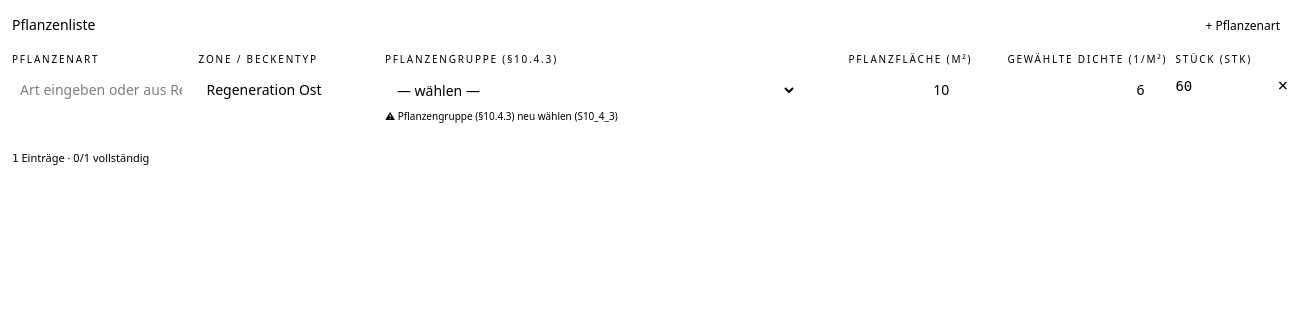
Test: catalog_pick column — picker behaviour inside the RegisterEditor › typing writes the text cell as before and queries the API with the row context; picking writes ONLY the species name and shows a proposal
Step 1. Type "My" into the dropdown named "Pflanzenart" → (101, 90), box [12,76,190,104]
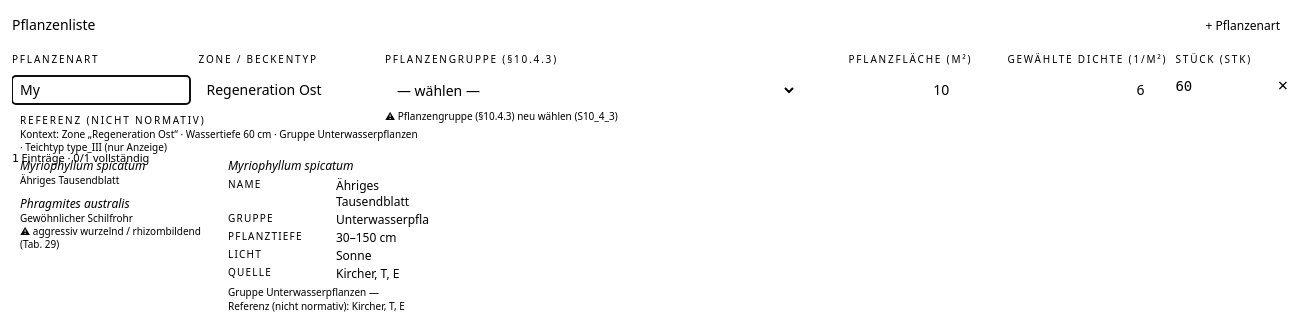
Expected: the text "Referenz (nicht normativ)" is shown, [20,113,206,127]
Expected: the text with test id "catalog-context" shows "Kontext: Zone „Regeneration Ost“ · Wassertiefe 60 cm · Gruppe Unterwasserpflanzen · Teichtyp type_III (nur Anzeige)", [20,127,418,154]
Expected: the number of options with test id "catalog-option" is 2
Step 2. Click the option with test id "catalog-option" that starts with "Myriophyllum spicatum" → (83, 172), box [20,157,146,187]
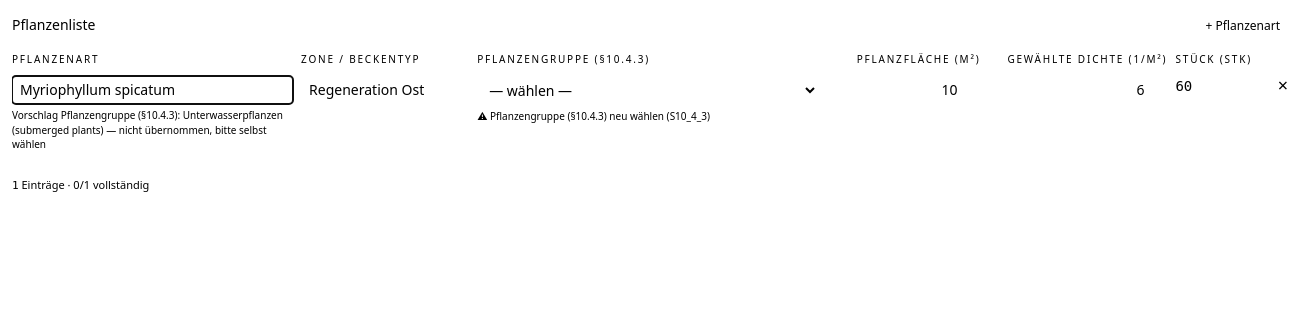
Expected: the text "⚠ Pflanzengruppe (§10.4.3) neu wählen (S10_4_3)" is shown, [477,109,710,123]
Expected: the text with test id "catalog-proposal" shows "Vorschlag Pflanzengruppe (§10.4.3): Unterwasserpflanzen (submerged plants) — nicht übernommen, bitte selbst wählen", [12,108,293,151]
